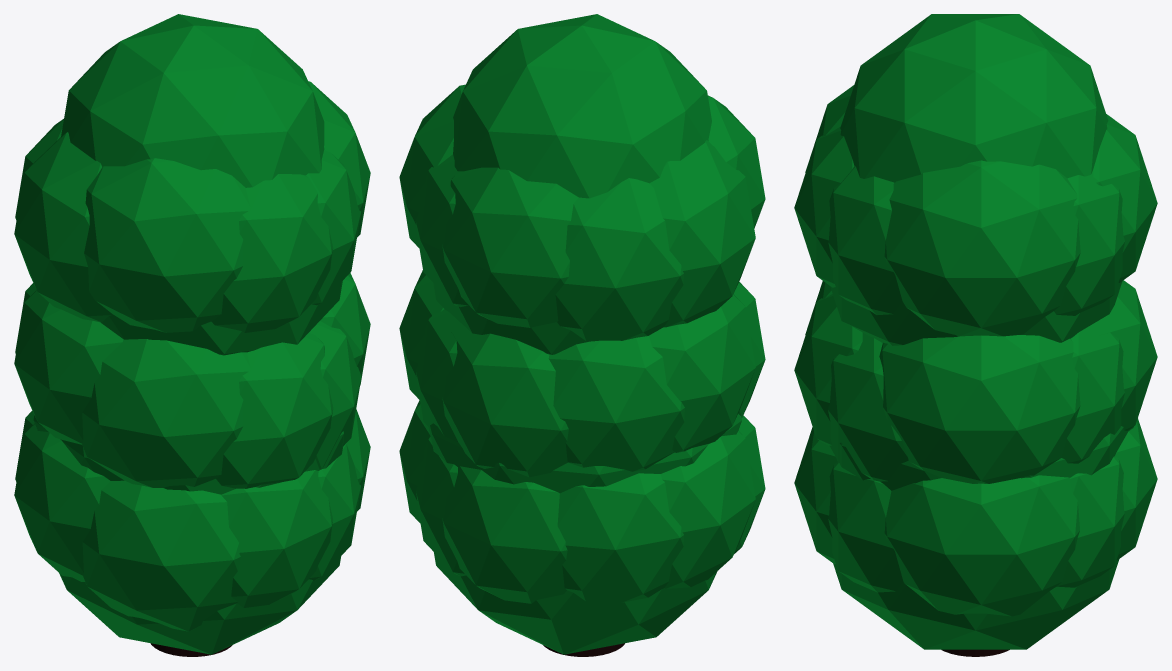
The model's file is Medium_High_Leaf_Tree.glb.
The picture shows the model from 3 angles, left to right: view 1: azimuth 30°, elevation 25°; view 2: azimuth 150°, elevation 25°; view 3: azimuth 270°, elevation 25°; orthographic projection.
Visible parts, largest first — view 1: Icosphere, Icosphere.006, Icosphere.026, Icosphere.027, Icosphere.004, Icosphere.024, Icosphere.001, Icosphere.025, Icosphere.012, Icosphere.013, Icosphere.011, Icosphere.005 (+8 smaller); view 2: Icosphere, Icosphere.003, Icosphere.008, Icosphere.014, Icosphere.016, Icosphere.015, Icosphere.017, Icosphere.001, Icosphere.012, Icosphere.011, Icosphere.013, Icosphere.010 (+10 smaller); view 3: Icosphere, Icosphere.002, Icosphere.020, Icosphere.021, Icosphere.011, Icosphere.009, Icosphere.022, Icosphere.023, Icosphere.007, Icosphere.018, Icosphere.019, Icosphere.003 (+8 smaller).
Part boxes in pixels (bbox=[...]): Icosphere: bbox=[61, 14, 324, 187]; Icosphere.006: bbox=[84, 158, 250, 332]; Icosphere.026: bbox=[82, 339, 250, 487]; Icosphere.027: bbox=[82, 480, 240, 631]; Icosphere.004: bbox=[211, 174, 333, 332]; Icosphere.024: bbox=[216, 333, 333, 488]; Icosphere.001: bbox=[14, 132, 112, 322]; Icosphere.025: bbox=[221, 470, 333, 607]; Icosphere.012: bbox=[14, 290, 123, 444]; Icosphere.013: bbox=[14, 423, 110, 581]; Icosphere.011: bbox=[59, 556, 341, 654]; Icosphere.005: bbox=[100, 281, 342, 355]; Icosphere: bbox=[453, 14, 711, 198]; Icosphere.003: bbox=[442, 167, 578, 327]; Icosphere.008: bbox=[555, 178, 683, 341]; Icosphere.014: bbox=[548, 336, 684, 471]; Icosphere.016: bbox=[442, 326, 568, 477]; Icosphere.015: bbox=[557, 473, 683, 603]; Icosphere.017: bbox=[442, 466, 567, 603]; Icosphere.001: bbox=[650, 140, 755, 327]; Icosphere.012: bbox=[649, 294, 755, 452]; Icosphere.011: bbox=[434, 552, 717, 654]; Icosphere.013: bbox=[660, 431, 755, 588]; Icosphere.010: bbox=[428, 414, 741, 493]; Icosphere: bbox=[840, 14, 1108, 182]; Icosphere.002: bbox=[884, 160, 1080, 336]; Icosphere.020: bbox=[879, 335, 1080, 483]; Icosphere.021: bbox=[884, 475, 1079, 616]; Icosphere.011: bbox=[833, 559, 1119, 649]; Icosphere.009: bbox=[828, 166, 902, 314]; Icosphere.022: bbox=[828, 333, 908, 481]; Icosphere.023: bbox=[828, 462, 903, 592]; Icosphere.007: bbox=[1054, 170, 1124, 315]; Icosphere.018: bbox=[1061, 320, 1124, 463]; Icosphere.019: bbox=[1057, 456, 1124, 587]; Icosphere.003: bbox=[1093, 114, 1157, 282].
Size of the model in its own units: 8.54 by 15.66 by 8.29.
